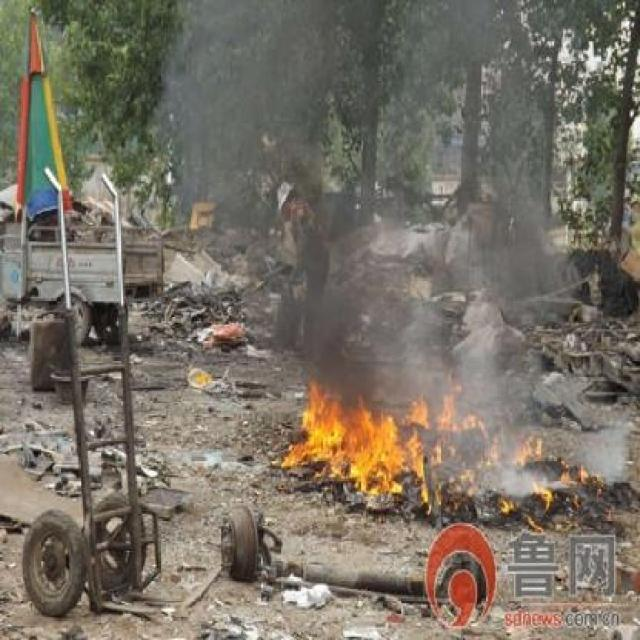Fire: (290, 382, 630, 536)
Smoke: (192, 7, 640, 386)
